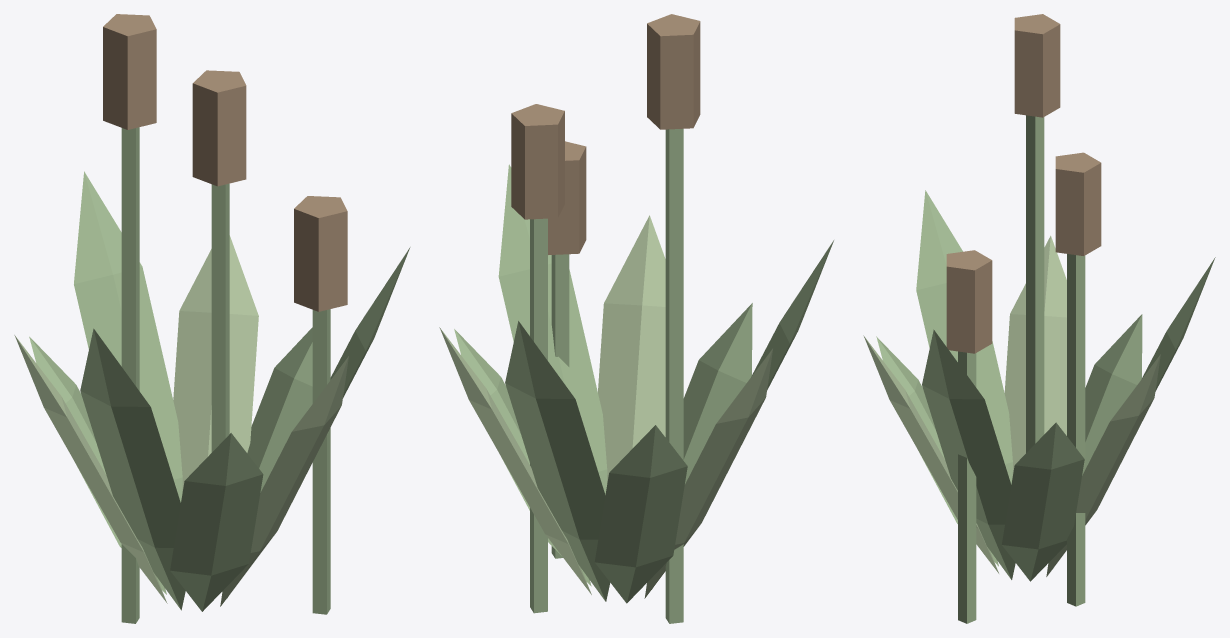
File: reed.glb
The picture shows the model from 3 angles, left to right: view 1: azimuth 30°, elevation 25°; view 2: azimuth 150°, elevation 25°; view 3: azimuth 270°, elevation 25°; orthographic projection. The views are drawn at different scales.
Visible parts, largest first — view 1: reed_reed, reed_reed-light, reed_seed-head; view 2: reed_reed, reed_reed-light, reed_seed-head; view 3: reed_reed, reed_reed-light, reed_seed-head.
Part boxes in pixels (x1,y1,x2,y2): reed_reed: (29, 127, 410, 623); reed_reed-light: (14, 235, 348, 606); reed_seed-head: (103, 14, 347, 311); reed_reed: (454, 128, 833, 623); reed_reed-light: (439, 215, 772, 598); reed_seed-head: (511, 14, 700, 254); reed_reed: (876, 115, 1215, 623); reed_reed-light: (863, 235, 1160, 576); reed_seed-head: (946, 14, 1101, 353).
Bounding box in the file's own units: 0.3321 × 0.5717 × 0.3448.
